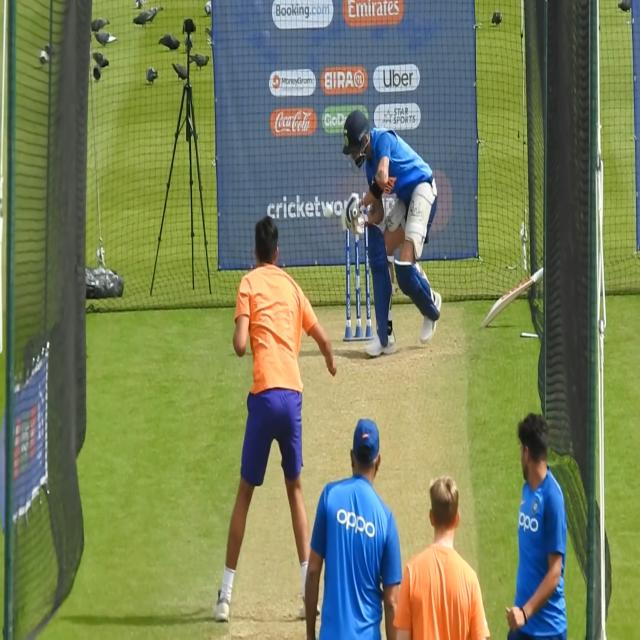ball: (323, 201, 336, 223)
stump: (343, 230, 372, 346)
